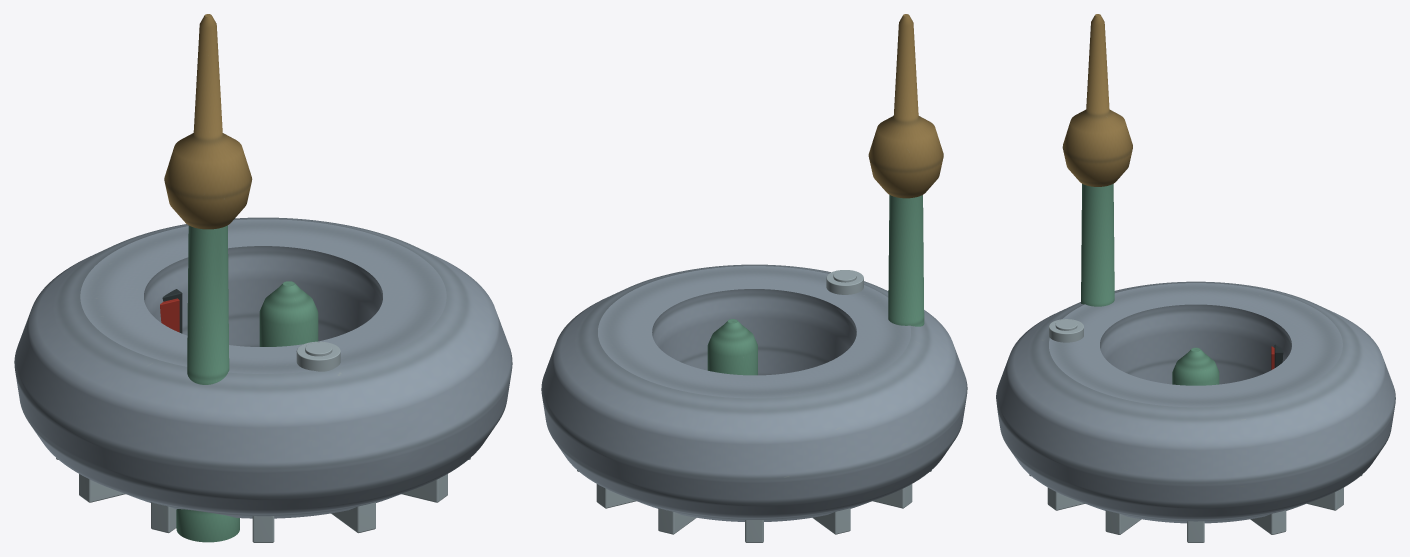
3 renders of one model, left to right at view 1: azimuth 30°, elevation 25°; view 2: azimuth 150°, elevation 25°; view 3: azimuth 270°, elevation 25°, orthographic. The views are drawn at different scales.
Parts seen in each view (by area): view 1: RI17 annular factory casing, RI17 bronze mast head, RI17 green mast, RI17 green interior unit, RI17 front roof fitting bezel, RI17 underside rib 9, RI17 underside rib 10, RI17 underside rib 6, RI17 underside rib 7, RI17 underside rib 8; view 2: RI17 annular factory casing, RI17 bronze mast head, RI17 green mast, RI17 green interior unit, RI17 underside rib 3, RI17 underside rib 5, RI17 front roof fitting bezel, RI17 underside rib 6, RI17 underside rib 2; view 3: RI17 annular factory casing, RI17 bronze mast head, RI17 green mast, RI17 green interior unit, RI17 underside rib 1, RI17 underside rib 11, RI17 front roof fitting bezel.
Part boxes in pixels (x1,y1,x2,y2): RI17 annular factory casing: (14, 217, 512, 518); RI17 bronze mast head: (164, 14, 252, 229); RI17 green mast: (176, 225, 239, 542); RI17 green interior unit: (259, 281, 318, 346); RI17 front roof fitting bezel: (296, 341, 340, 371); RI17 underside rib 9: (331, 502, 375, 533); RI17 underside rib 10: (401, 474, 447, 502); RI17 underside rib 6: (79, 474, 125, 502); RI17 underside rib 7: (151, 502, 176, 533); RI17 underside rib 8: (252, 516, 274, 542); RI17 annular factory casing: (541, 264, 967, 521); RI17 bronze mast head: (868, 14, 943, 198); RI17 green mast: (888, 195, 924, 326); RI17 green interior unit: (707, 319, 757, 375); RI17 underside rib 3: (658, 508, 696, 534); RI17 underside rib 5: (812, 508, 850, 534); RI17 front roof fitting bezel: (826, 270, 863, 294); RI17 underside rib 6: (872, 484, 912, 508); RI17 underside rib 2: (596, 484, 636, 508); RI17 annular factory casing: (996, 281, 1395, 523); RI17 bronze mast head: (1062, 14, 1132, 186); RI17 green mast: (1081, 184, 1114, 306); RI17 green interior unit: (1172, 347, 1219, 385); RI17 underside rib 1: (1250, 510, 1286, 534); RI17 underside rib 11: (1105, 510, 1141, 534); RI17 front roof fitting bezel: (1049, 319, 1083, 342).
Bounding box in the file's own units: 2.04 × 2.32 × 2.04.
Materials: 9 (6 with a texture image).
